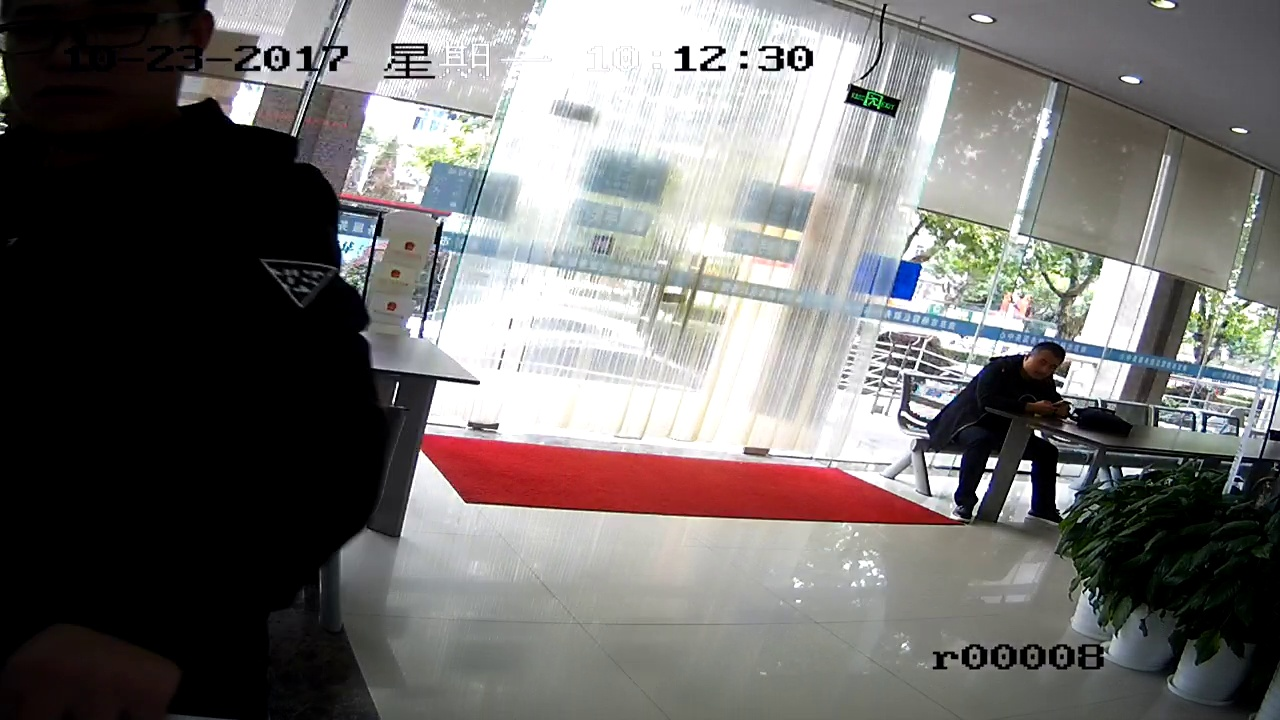chair: (894, 378, 943, 497)
person: (1, 1, 346, 525), (942, 339, 1068, 525)
pot: (1167, 483, 1244, 703), (1081, 471, 1155, 660)
